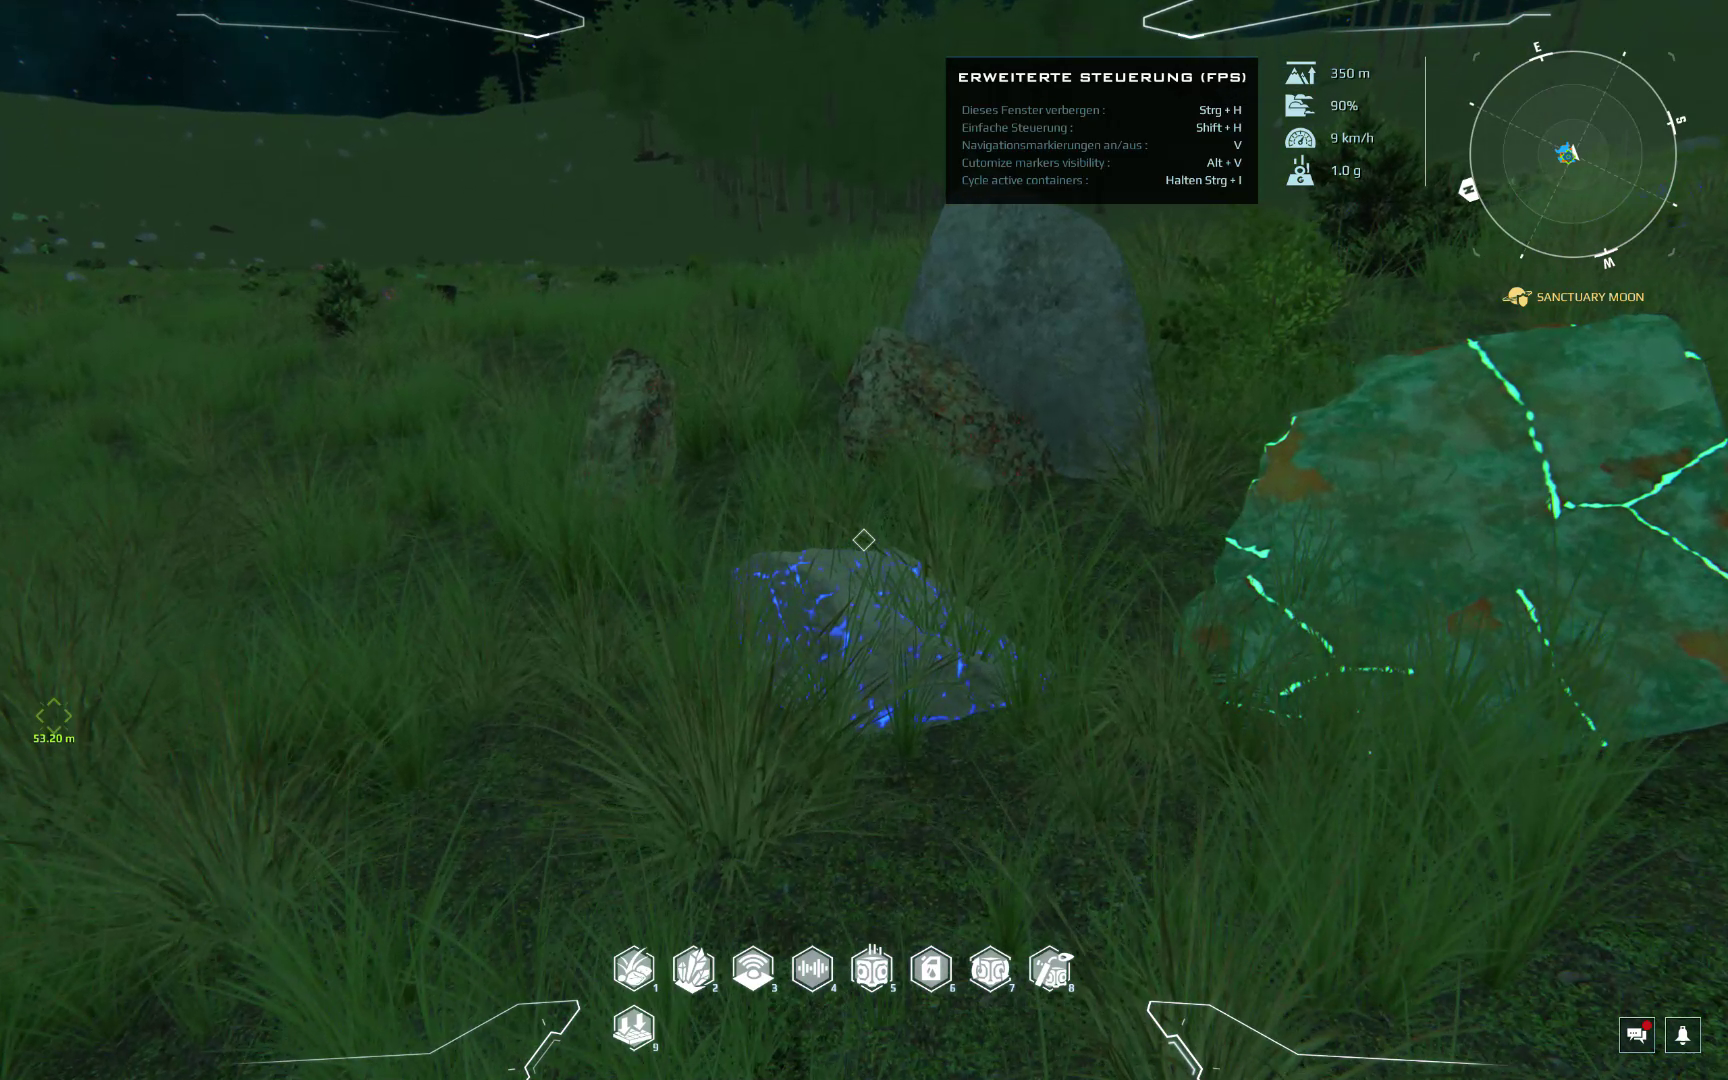Ore: (1179, 309, 1728, 752), (723, 544, 1060, 734), (829, 324, 1054, 511), (582, 345, 683, 501)
